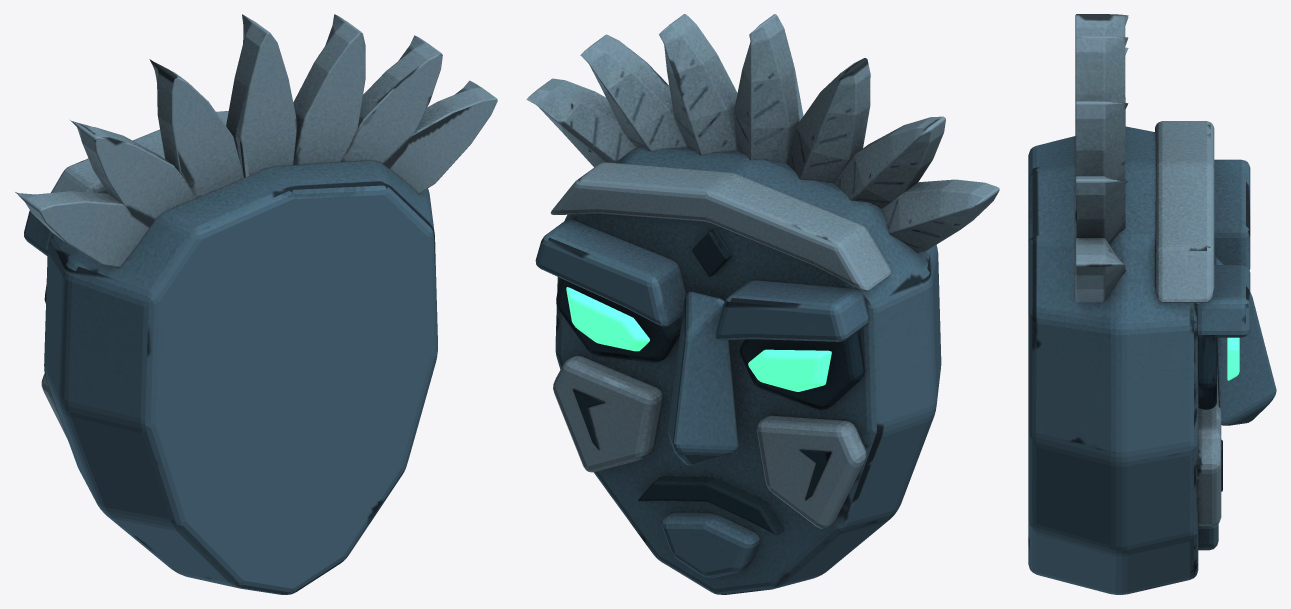
3 renders of one model, left to right at view 1: azimuth 30°, elevation 25°; view 2: azimuth 150°, elevation 25°; view 3: azimuth 270°, elevation 25°, orthographic. The views are drawn at different scales.
Visible parts, largest first — view 1: Polished_blue_grey_stone, Feather_blue_stone; view 2: Polished_blue_grey_stone, Feather_blue_stone, Recess_blue_stone, glow_Jade; view 3: Polished_blue_grey_stone, Feather_blue_stone, Recess_blue_stone, glow_Jade.
Boxes of the visible parts, x1,y1,x2,y2 form: Polished_blue_grey_stone: (24, 160, 437, 594); Feather_blue_stone: (15, 14, 497, 439); Polished_blue_grey_stone: (535, 59, 959, 594); Feather_blue_stone: (526, 14, 999, 528); Recess_blue_stone: (556, 229, 864, 534); glow_Jade: (566, 287, 831, 391); Polished_blue_grey_stone: (1028, 95, 1276, 594); Feather_blue_stone: (1075, 14, 1221, 526); Recess_blue_stone: (1198, 337, 1222, 491); glow_Jade: (1227, 337, 1239, 380).
Size of the model in its own units: 0.7042 by 0.8272 by 0.3392.
Materials: 4 (3 with a texture image).
